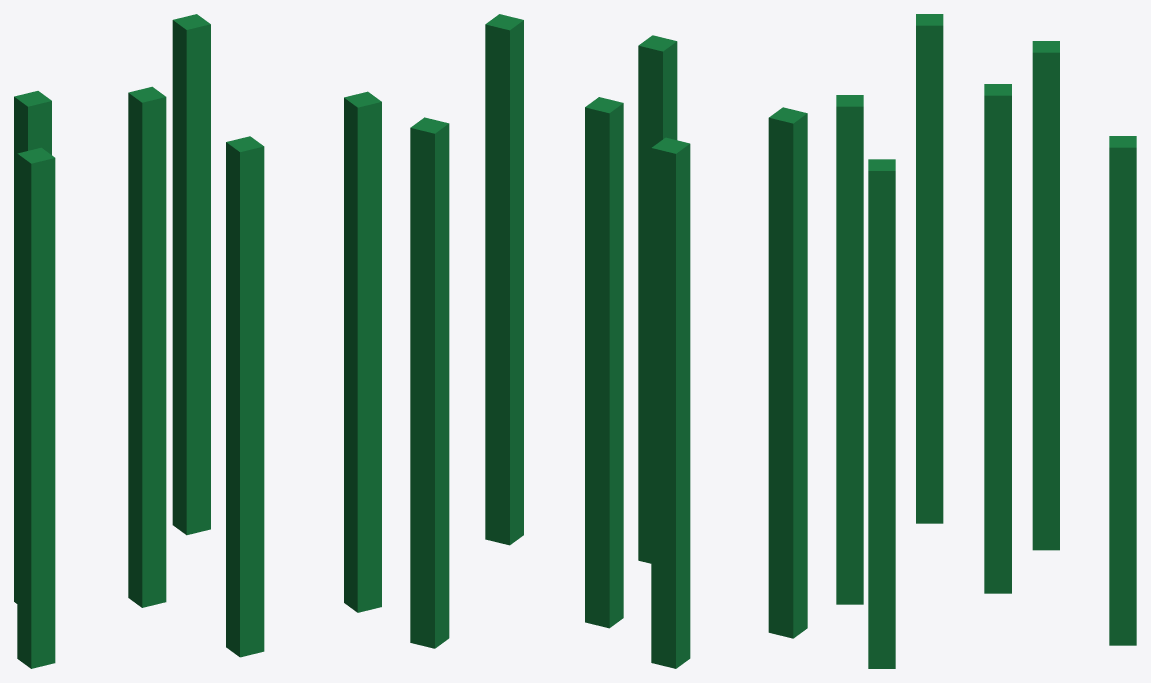
The model's file is grass.fbx.
The picture shows the model from 3 angles, left to right: view 1: azimuth 30°, elevation 25°; view 2: azimuth 150°, elevation 25°; view 3: azimuth 270°, elevation 25°; orthographic projection. The views are drawn at different scales.
Visible parts, largest first — view 1: Stalk 5, Stalk 2, Stalk 1, Stalk 6, Stalk 4, Stalk 3; view 2: Stalk 6, Stalk 2, Stalk 3, Stalk 1, Stalk 4, Stalk 5; view 3: Stalk 1, Stalk 2, Stalk 4, Stalk 5, Stalk 6, Stalk 3.
Part boxes in pixels (box(x1,y1,x2,y2)): Stalk 5: box(226, 136, 264, 657); Stalk 2: box(172, 14, 210, 535); Stalk 1: box(128, 86, 166, 607); Stalk 6: box(17, 147, 55, 668); Stalk 4: box(344, 91, 381, 612); Stalk 3: box(14, 91, 51, 603); Stalk 6: box(768, 107, 807, 638); Stalk 2: box(410, 117, 449, 648); Stalk 3: box(651, 137, 690, 668); Stalk 1: box(585, 97, 623, 628); Stalk 4: box(485, 14, 523, 545); Stalk 5: box(638, 35, 677, 563); Stalk 1: box(984, 84, 1011, 593); Stalk 2: box(1109, 136, 1136, 645); Stalk 4: box(868, 159, 895, 668); Stalk 5: box(836, 95, 863, 604); Stalk 6: box(916, 14, 943, 523); Stalk 3: box(1032, 41, 1059, 550).
Size of the model in its own units: 135 by 200 by 109.
